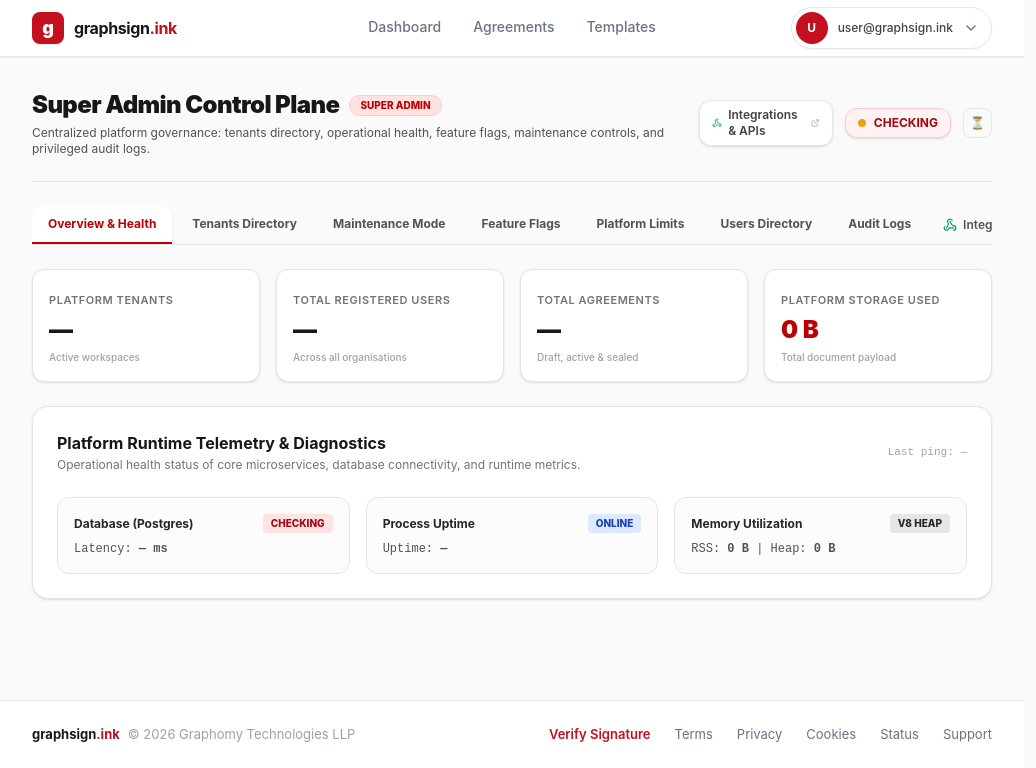
AdminDashboardPage Control Plane Unit Tests (FR-015 / INK-287) › navigates to Feature Flags tab and displays configured flags
Click the button "Feature Flags" at (521, 225), box [466,206,576,244]
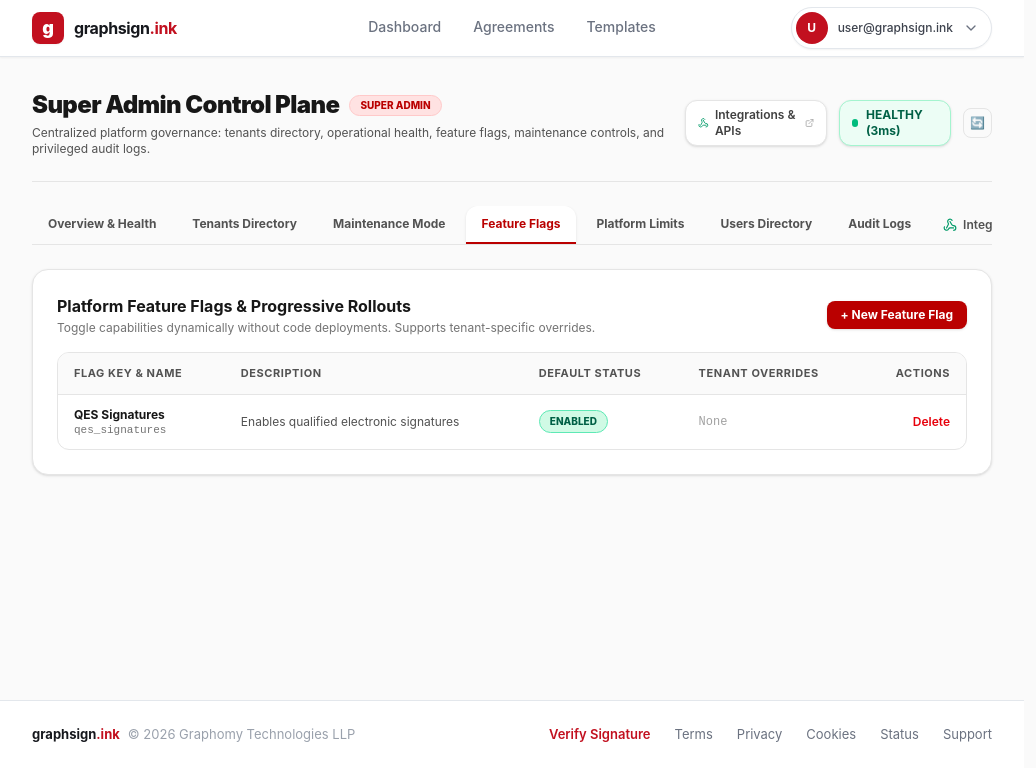
expect the heading "Platform Feature Flags & Progressive Rollouts" is shown: met, box [57,296,411,316]
expect the text "QES Signatures" is shown: met, box [74,406,165,422]
expect the text "qes_signatures" is shown: met, box [74,424,166,436]
